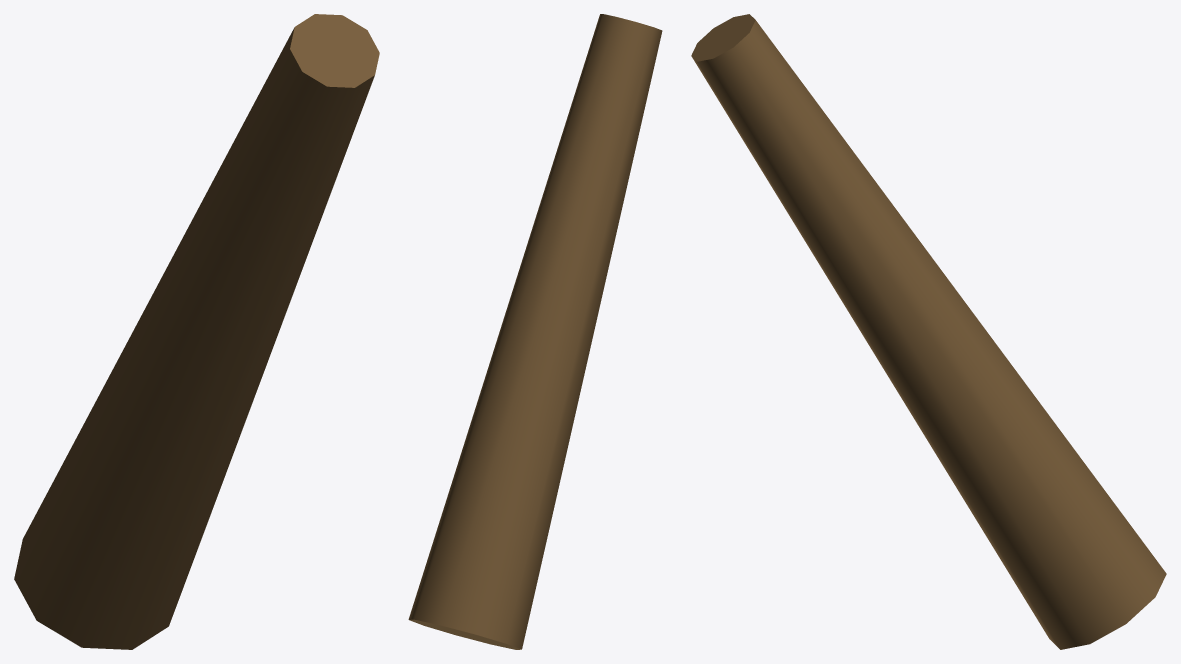
Rendered from branch-north.glb.
3 renders of one model, left to right at view 1: azimuth 30°, elevation 25°; view 2: azimuth 150°, elevation 25°; view 3: azimuth 270°, elevation 25°, orthographic. The views are drawn at different scales.
Parts seen in each view (by area): view 1: Branch north; view 2: Branch north; view 3: Branch north.
Part boxes in pixels (x1=…): Branch north: x1=14, y1=14, x2=379, y2=649; Branch north: x1=408, y1=14, x2=662, y2=649; Branch north: x1=691, y1=14, x2=1166, y2=649.
Size of the model in its own units: 6.14 by 32.06 by 22.32.
